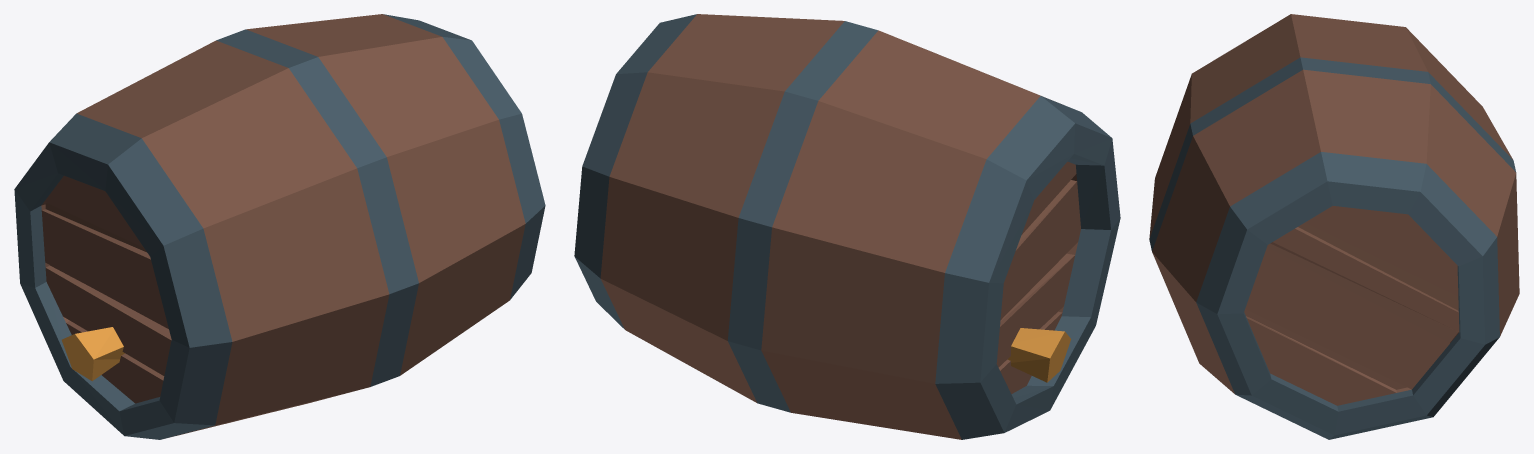
File: barrel.glb
3 renders of one model, left to right at view 1: azimuth 30°, elevation 25°; view 2: azimuth 150°, elevation 25°; view 3: azimuth 270°, elevation 25°, orthographic. The views are drawn at different scales.
Visible parts, largest first — view 1: group466096622; view 2: group466096622; view 3: group466096622.
Boxes of the visible parts, x1,y1,x2,y2 form: group466096622: (14, 14, 545, 439); group466096622: (574, 14, 1120, 439); group466096622: (1149, 14, 1519, 439).
Size of the model in its own units: 0.316 by 0.2528 by 0.2501.
